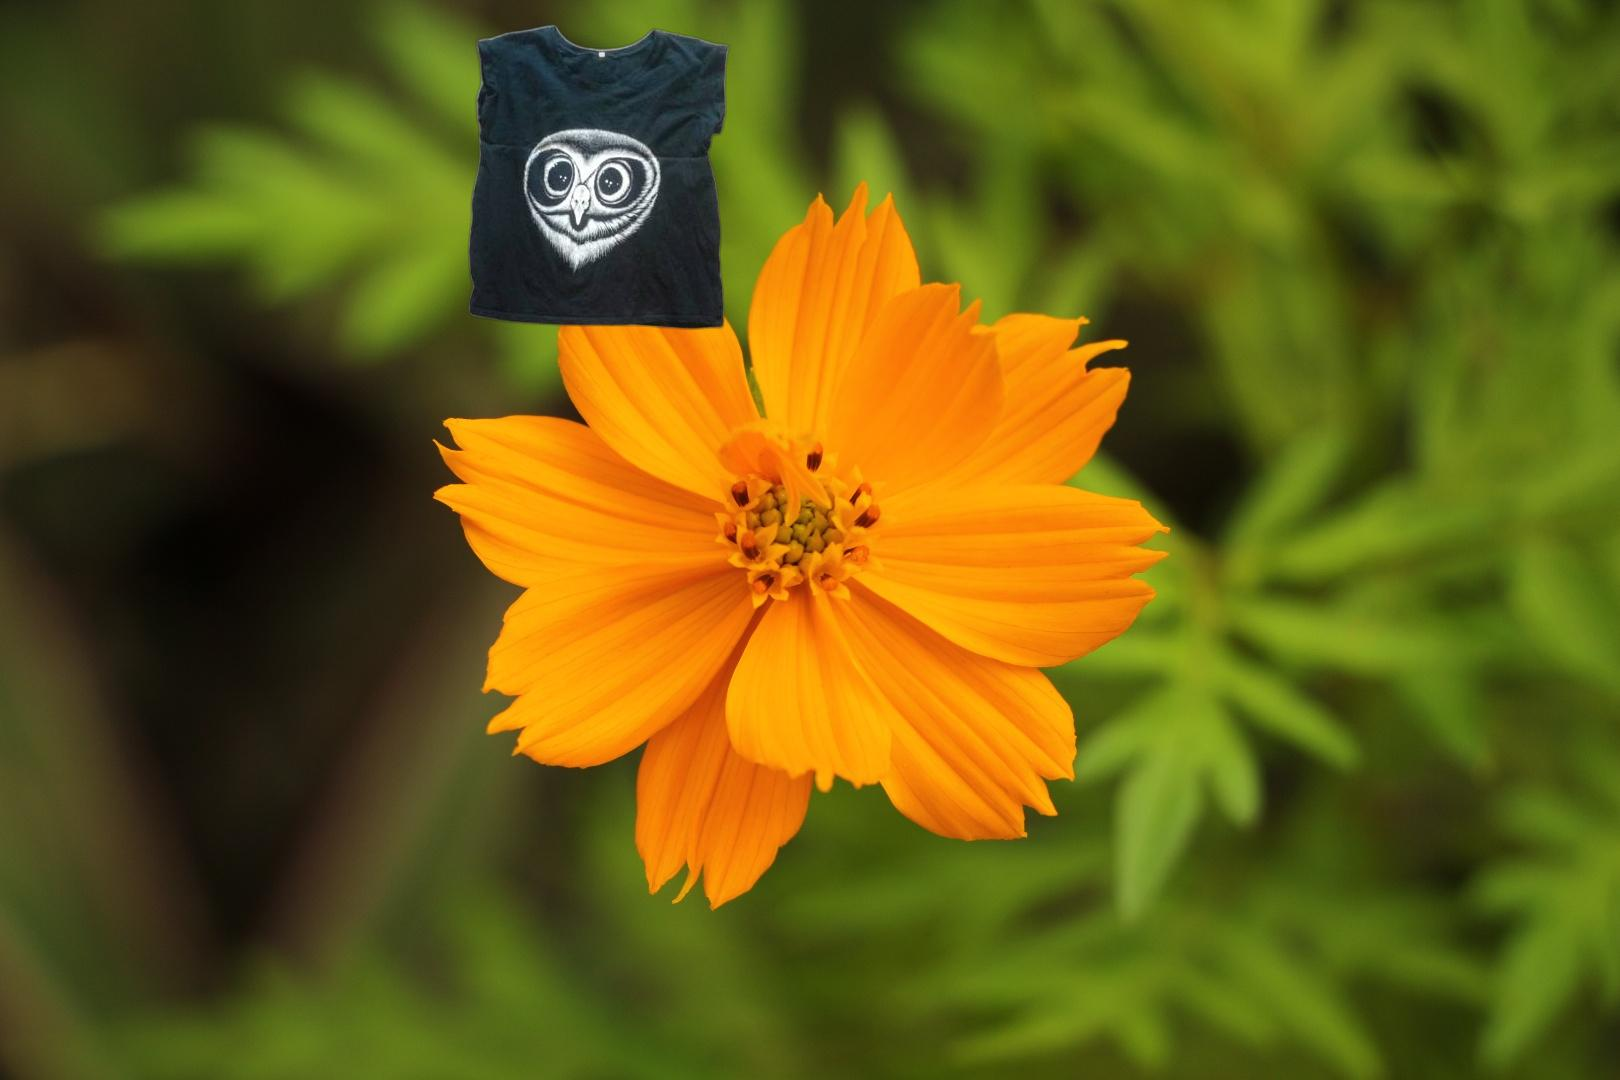clothes: (465, 20, 733, 333)
